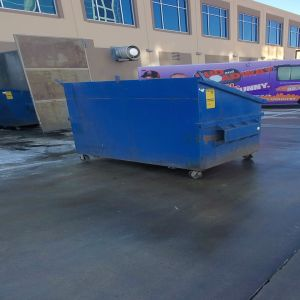Dumpster: (64, 81, 266, 180)
